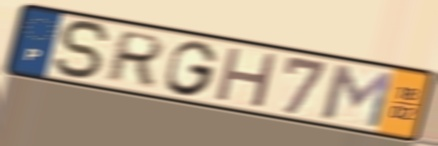7: (280, 53, 332, 118)
G: (163, 39, 221, 98)
H: (212, 44, 282, 110)
M: (319, 61, 397, 131)
R: (101, 29, 168, 88)
S: (52, 19, 116, 82)
